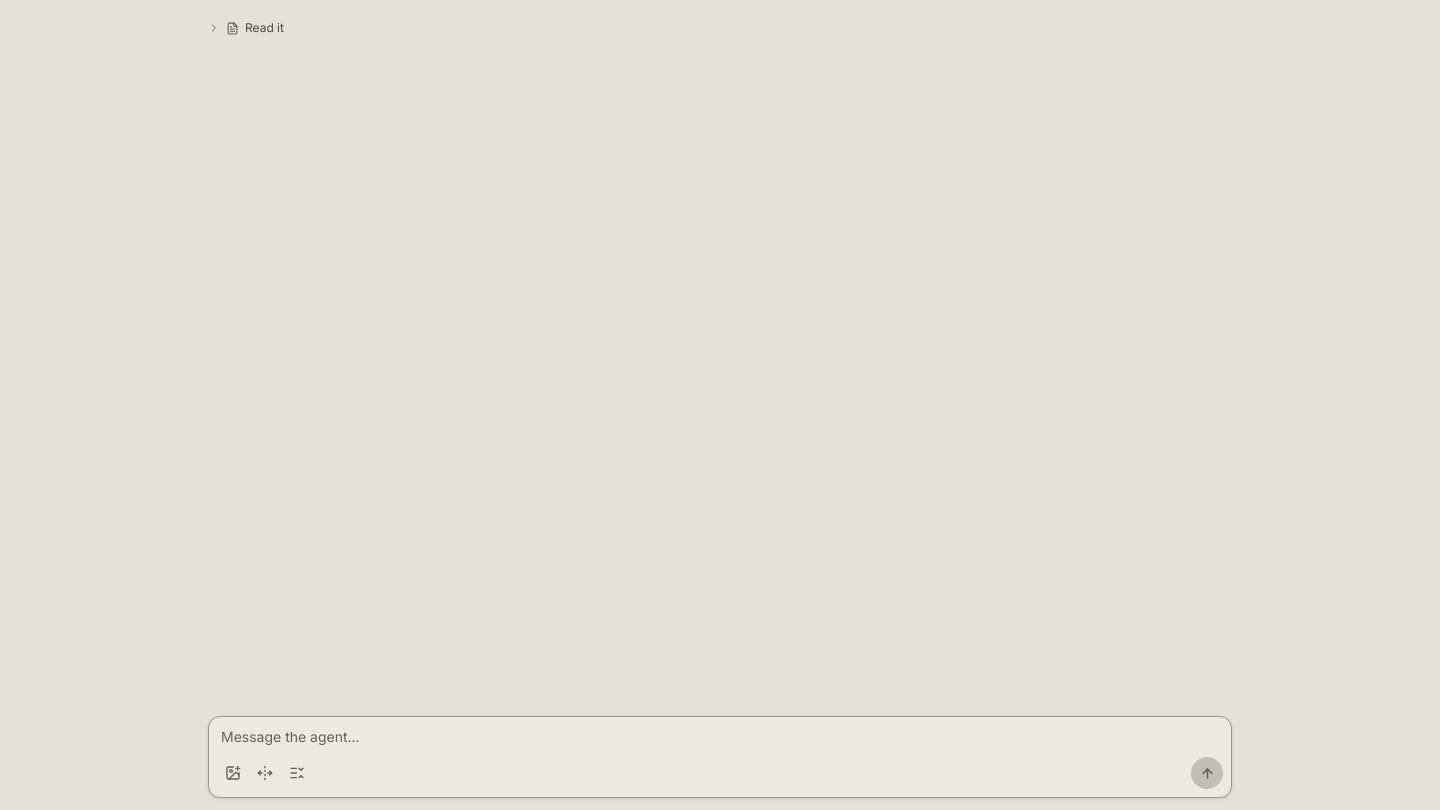
Test case: WorkspaceChat rendering › shows a read without a path in the language its fence names
Click the button "Read it" at (264, 28), box [202,16,1238,40]
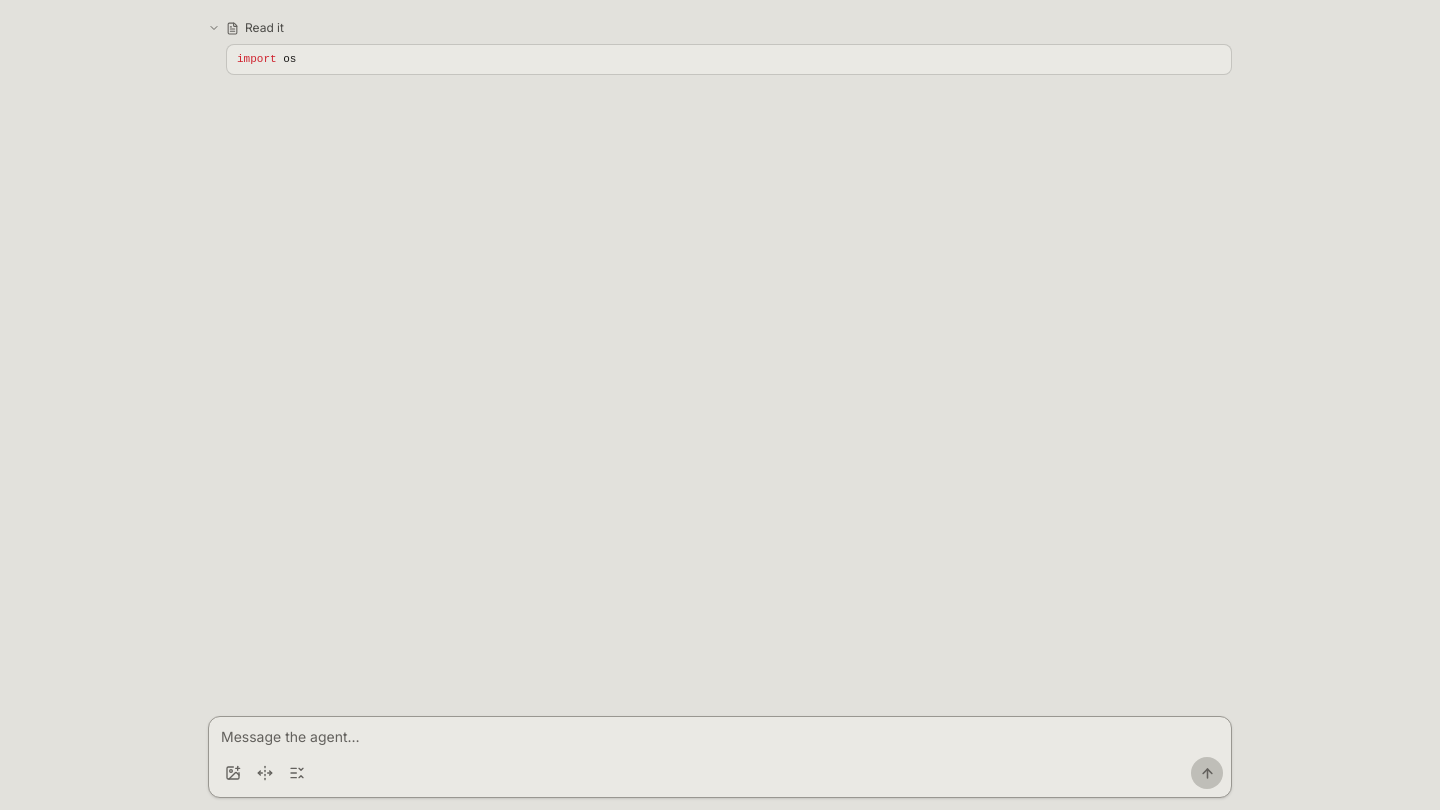
Result: the element with class "diff-hl" reads "import os" at [237,53,296,65]
Result: the text with class "tok-keyword" reads "import" at [237,53,277,65]
